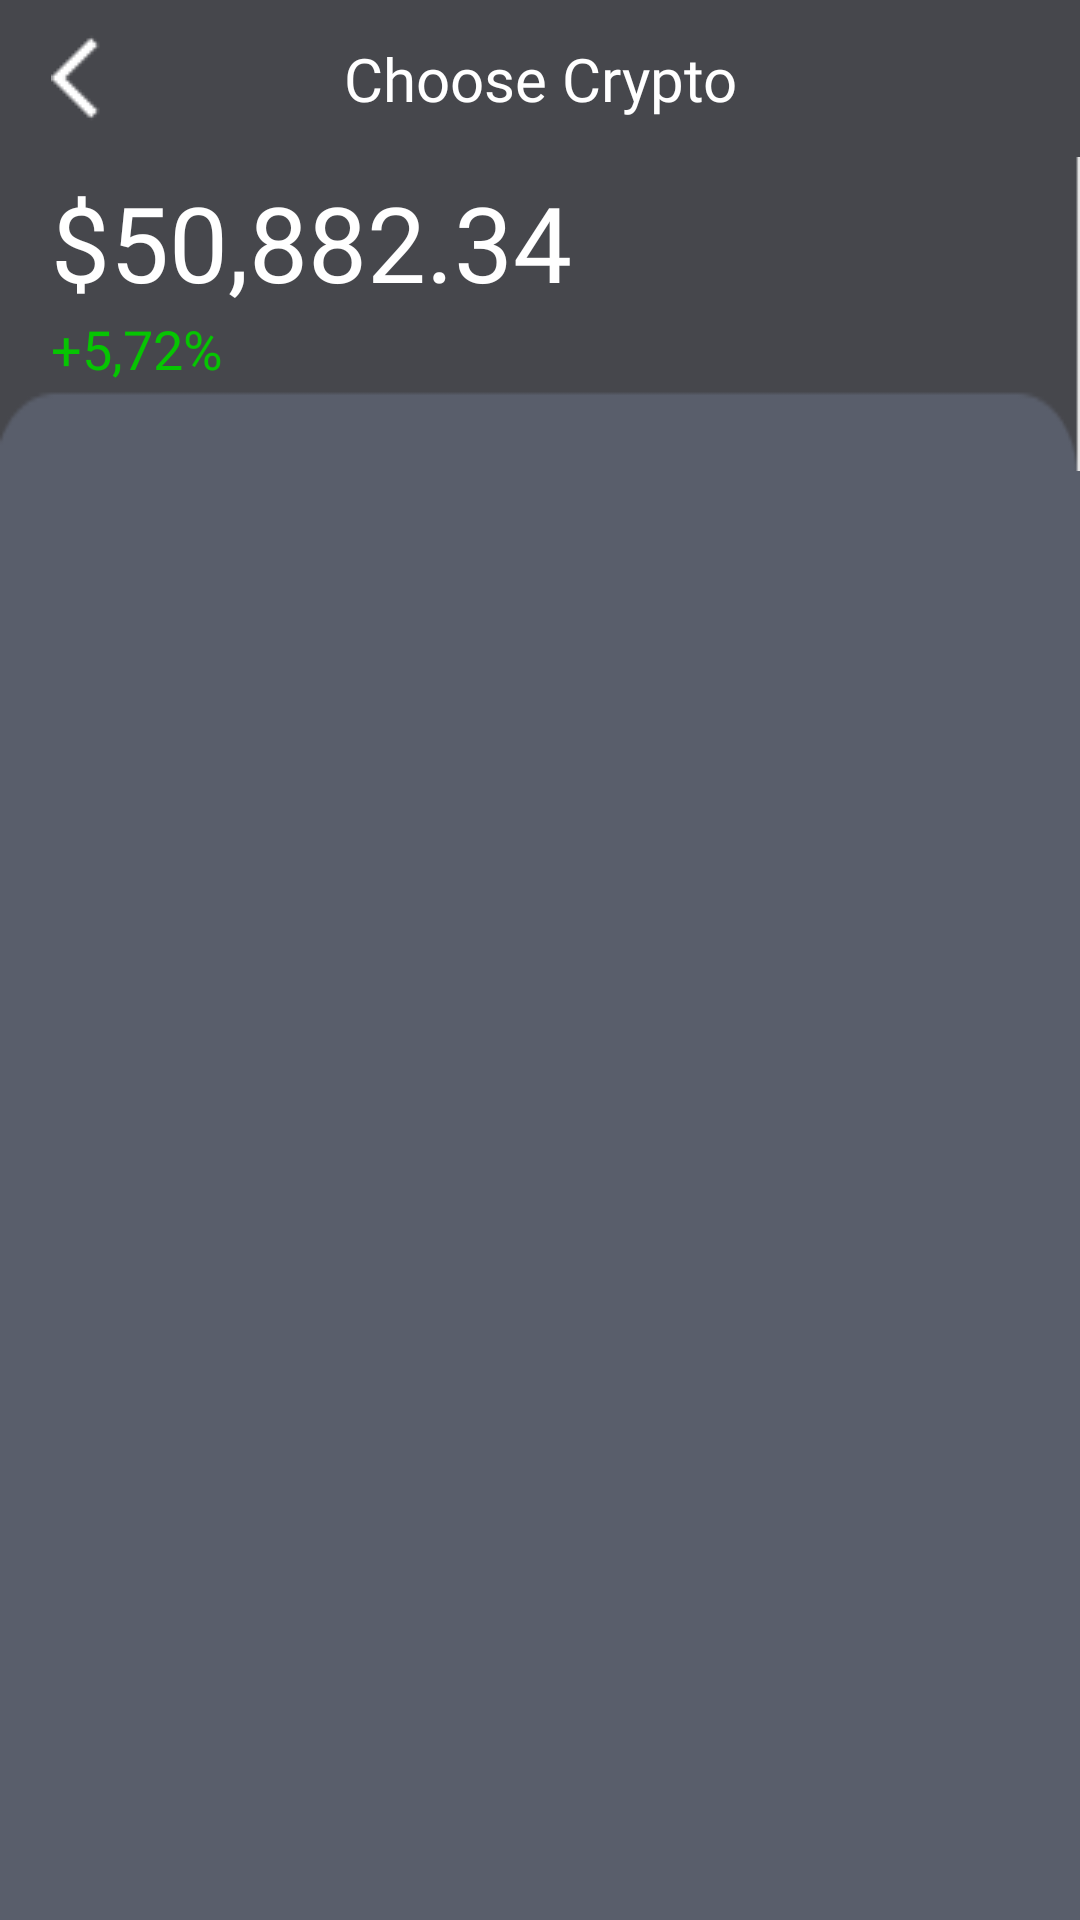

Locate icon controls on the screen. Image size 1080×1920, boxes as region(x1, y1, x2, y2).
back trade: region(51, 38, 98, 118)
